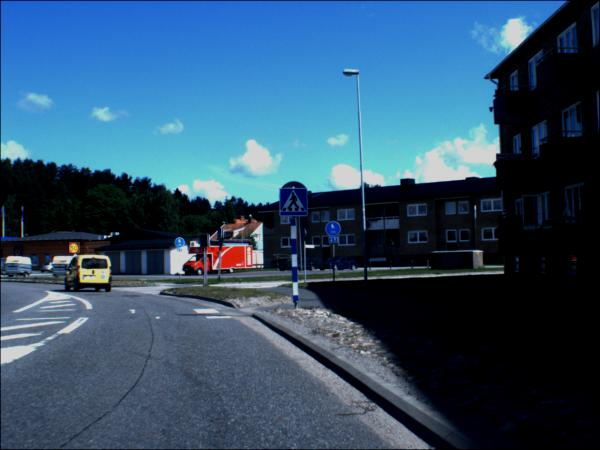50_SIGN: (71, 243, 83, 255)
PEDESTRIAN_CROSSING: (282, 190, 309, 217), (202, 237, 210, 249), (219, 229, 223, 239)
